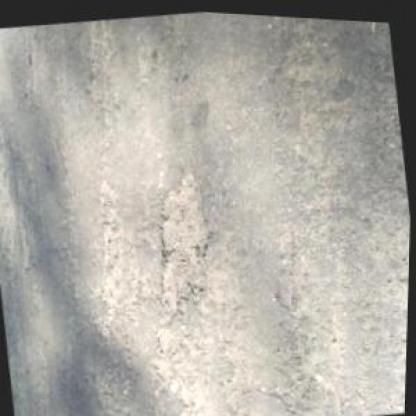pothole: (143, 164, 227, 319)
